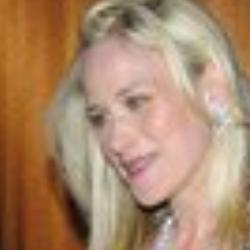face: (44, 3, 249, 215)
